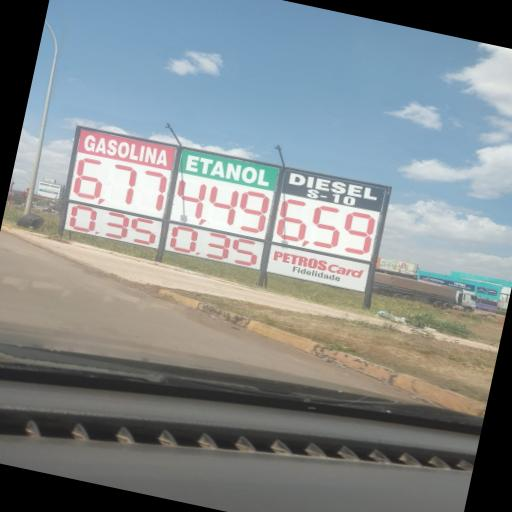ETANOL: (181, 151, 277, 189)
GASOLINA C: (81, 131, 172, 168)
S10: (283, 171, 379, 211)
placa: (70, 129, 386, 261)
preco: (274, 193, 378, 259), (170, 173, 273, 238), (72, 152, 170, 216)
